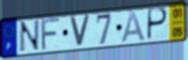7: (95, 13, 114, 46)
A: (120, 10, 148, 44)
F: (40, 17, 63, 53)
N: (17, 18, 41, 54)
P: (146, 7, 169, 42)
V: (68, 15, 92, 49)
